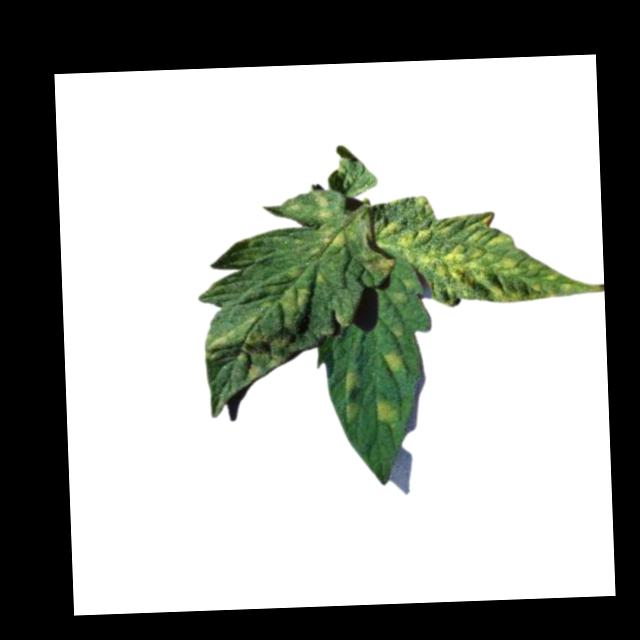Leaf_Mold: (373, 189, 594, 306), (205, 314, 301, 383), (310, 184, 349, 249), (280, 265, 312, 314), (340, 367, 364, 424), (380, 351, 405, 380), (377, 397, 397, 424)
